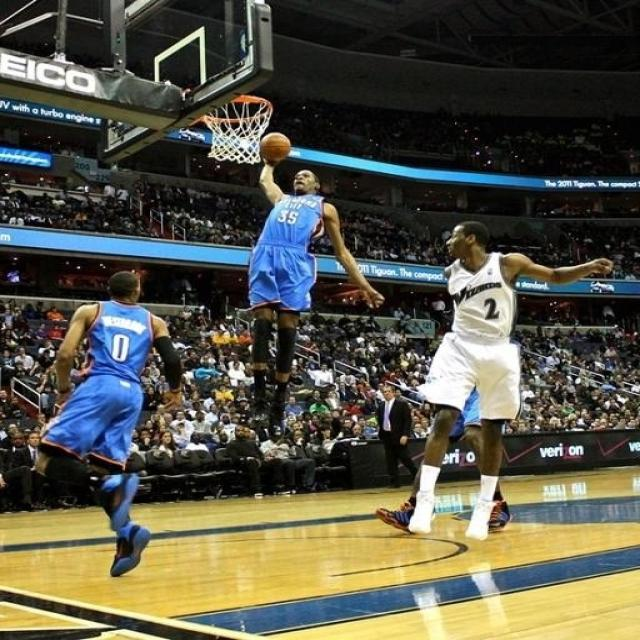basketball: (259, 131, 291, 162)
hoop: (202, 93, 272, 164)
